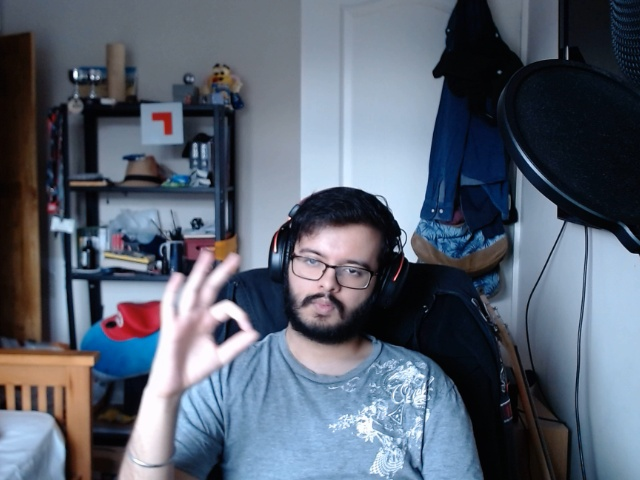Okay: (119, 242, 261, 403)
